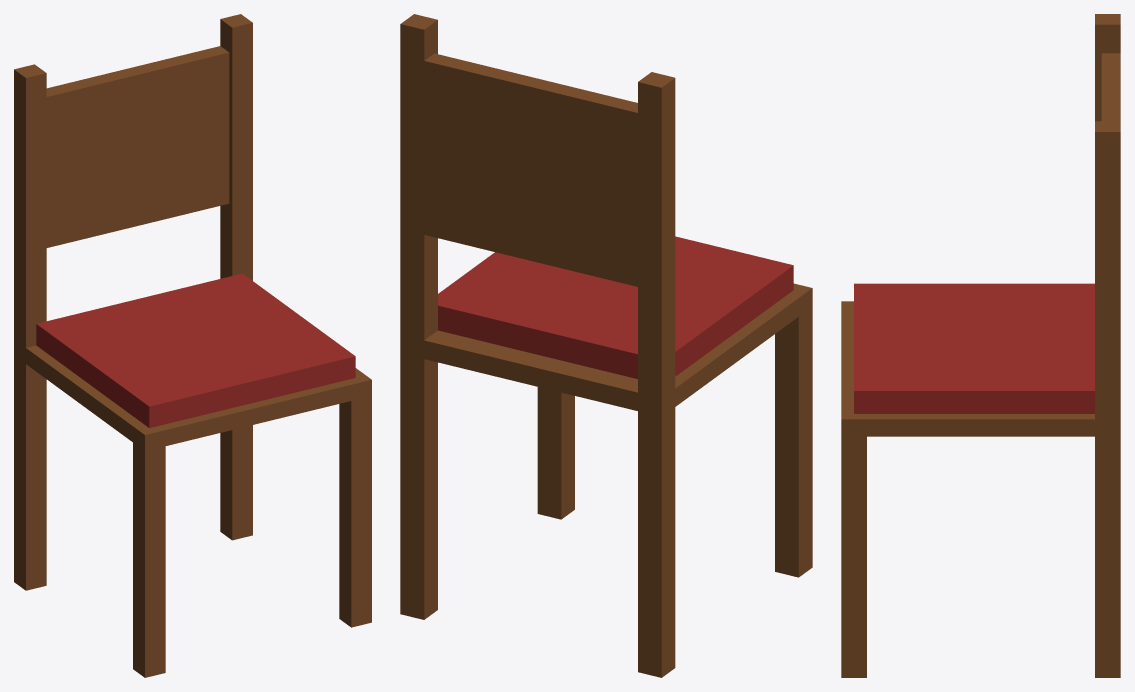
The model's file is chair.obj.
3 views of the same model, side by side, from view 1: azimuth 30°, elevation 25°; view 2: azimuth 150°, elevation 25°; view 3: azimuth 270°, elevation 25° (orthographic). The views are drawn at different scales.
Size of the model in its own units: 0.44 by 0.95 by 0.44.
